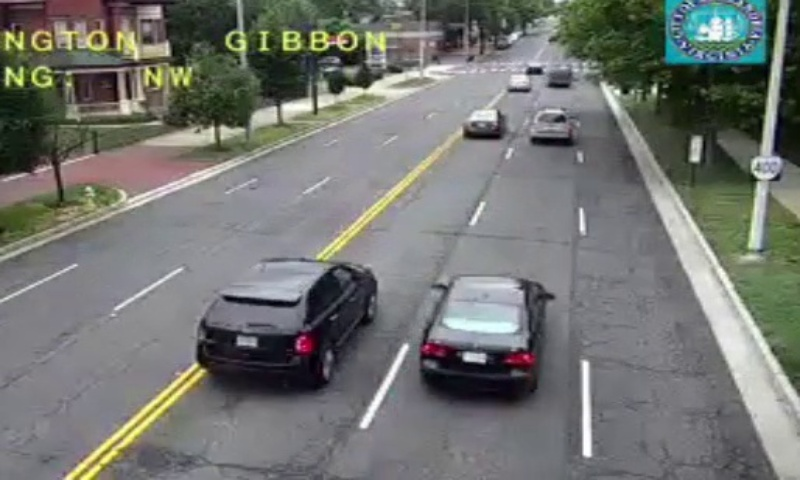car: (194, 257, 376, 371), (418, 272, 544, 385), (529, 108, 571, 141), (462, 111, 502, 135)
